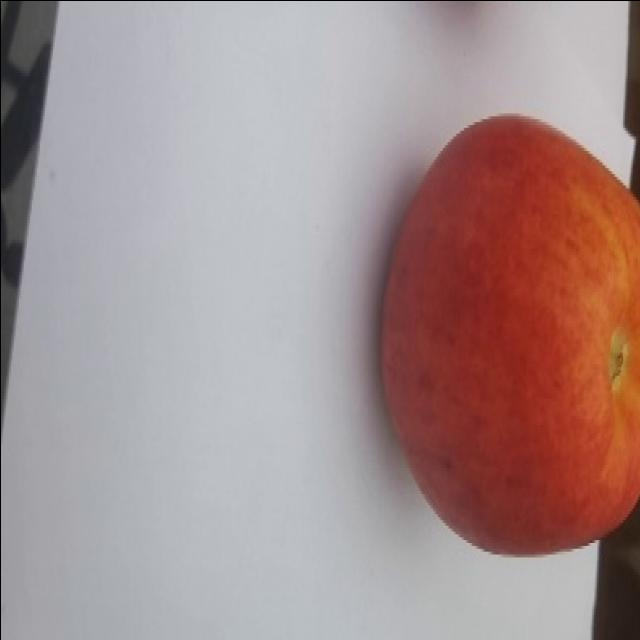Apple: (378, 108, 640, 561)
